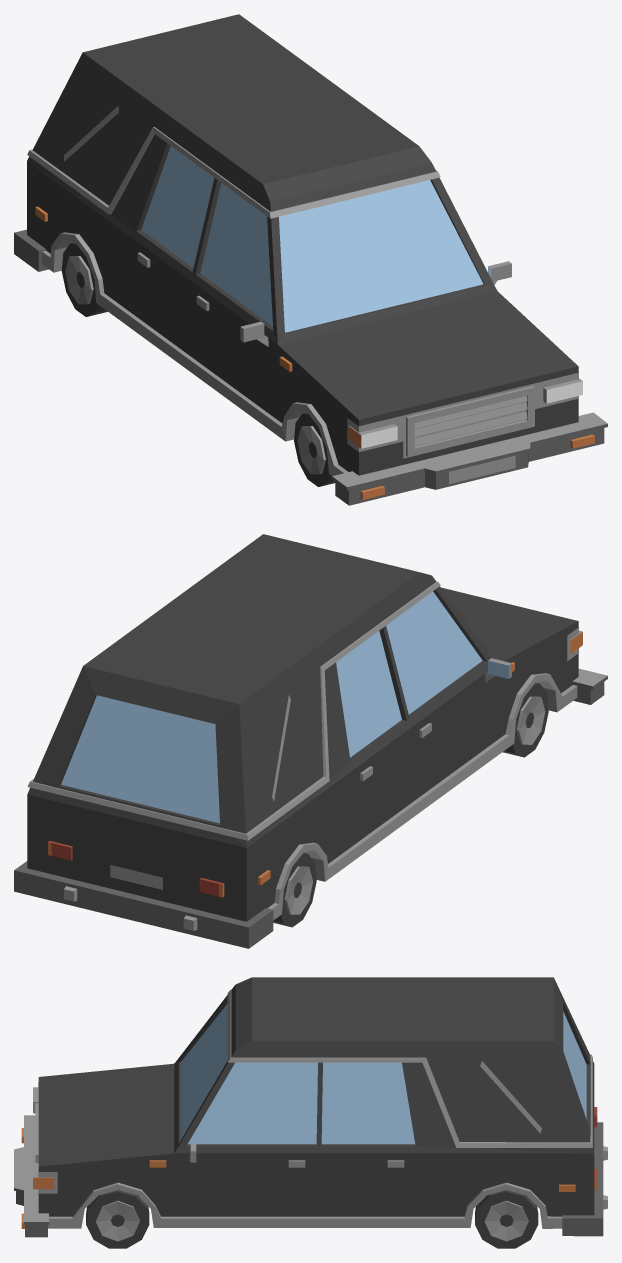
Rendered from transport_purpose_004.glb.
3 renders of one model, top to bottom at view 1: azimuth 30°, elevation 25°; view 2: azimuth 150°, elevation 25°; view 3: azimuth 270°, elevation 25°, orthographic. The views are drawn at different scales.
Parts seen in each view (by area): view 1: transport_purpose_004; view 2: transport_purpose_004; view 3: transport_purpose_004.
Part boxes in pixels (<box>): transport_purpose_004: <box>14,14,607,505</box>; transport_purpose_004: <box>14,534,607,948</box>; transport_purpose_004: <box>14,977,607,1248</box>.
Size of the model in its own units: 1.83 by 1.52 by 4.19.
Materials: 1 (1 with a texture image).
